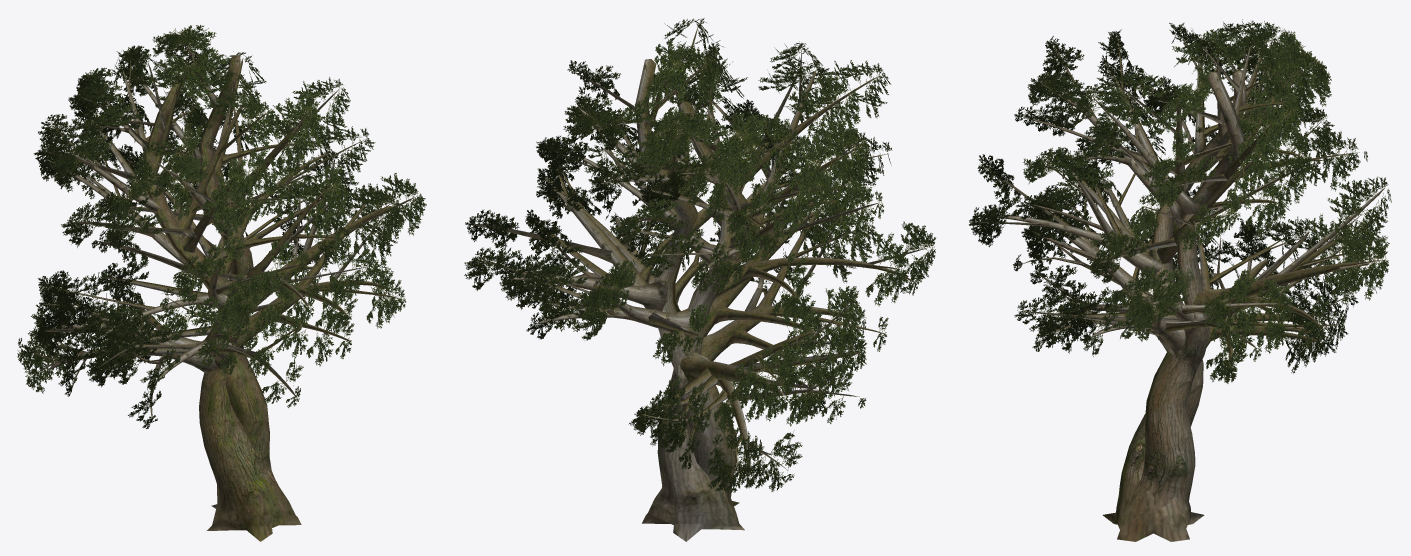
Rendered from Tree2.gltf.
3 renders of one model, left to right at view 1: azimuth 30°, elevation 25°; view 2: azimuth 150°, elevation 25°; view 3: azimuth 270°, elevation 25°, orthographic. The views are drawn at different scales.
Parts seen in each view (by area): view 1: Tree2; view 2: Tree2; view 3: Tree2.
Boxes of the visible parts, x1,y1,x2,y2 form: Tree2: [17, 25, 426, 541]; Tree2: [464, 18, 935, 541]; Tree2: [969, 19, 1391, 541].
Size of the model in its own units: 4.7 by 5.92 by 4.67.
Materials: 2 (2 with a texture image).
